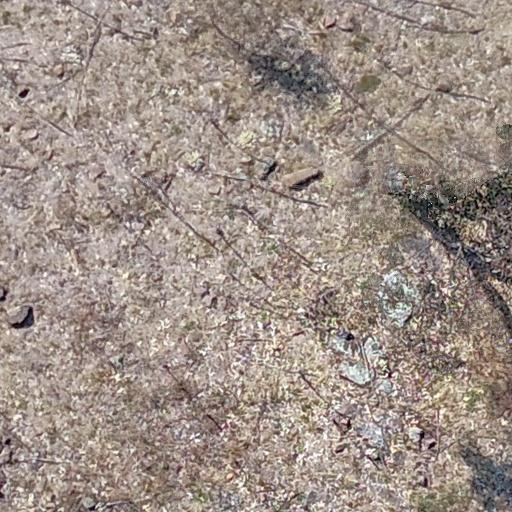stone: (281, 166, 323, 190), (5, 302, 35, 324), (332, 402, 358, 426), (337, 9, 359, 32), (258, 158, 278, 181), (332, 416, 352, 435), (87, 166, 107, 184), (107, 353, 126, 371), (407, 426, 425, 443), (207, 179, 224, 196), (274, 59, 294, 72), (322, 14, 337, 30), (24, 128, 40, 142), (364, 447, 380, 461), (422, 437, 437, 451), (80, 497, 96, 510), (435, 82, 452, 94), (202, 294, 216, 308), (216, 297, 230, 310), (52, 63, 64, 78), (191, 288, 207, 298), (18, 87, 30, 99), (0, 286, 8, 302), (3, 122, 14, 133), (335, 444, 347, 454), (242, 150, 252, 162), (3, 438, 12, 446)
